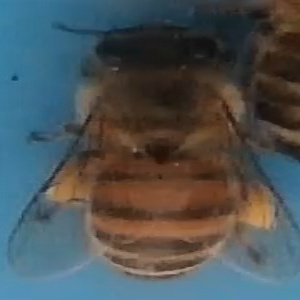bee: (7, 19, 300, 283), (242, 4, 300, 161)
